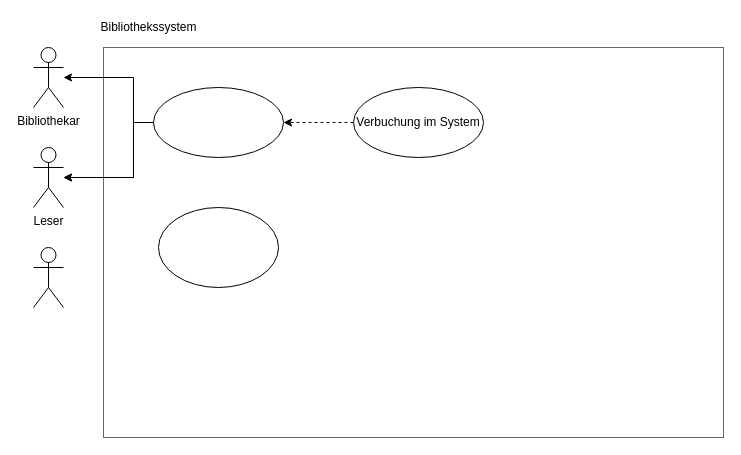
Some shapes in this 741 by 455 pixel diagram are drawn without their labels. Here are the shapes that lost their labels. From the top down, the box of each, then its label:
(152, 86, 284, 158): Medium ausleihen oder Rückgabe
(32, 246, 64, 308): Verwalter
